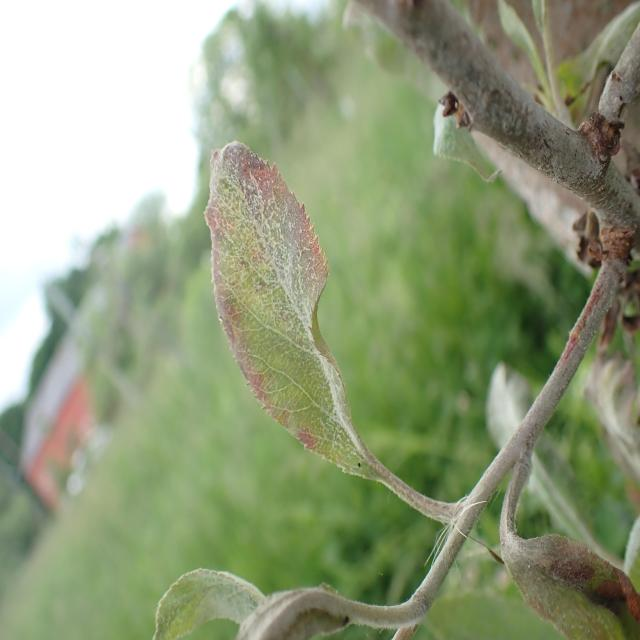Powdery_mildew: (194, 128, 400, 498), (479, 458, 640, 640), (138, 554, 317, 640)
